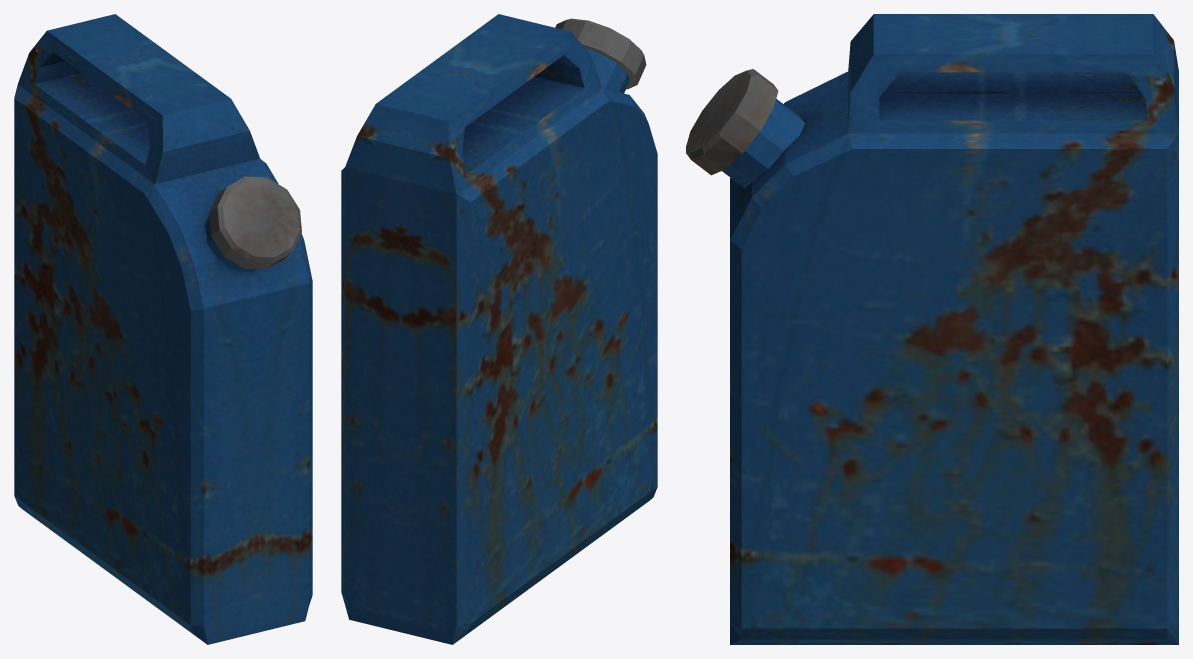
File: Gasoline_can.obj
3 renders of one model, left to right at view 1: azimuth 30°, elevation 25°; view 2: azimuth 150°, elevation 25°; view 3: azimuth 270°, elevation 25°, orthographic. The views are drawn at different scales.
Parts seen in each view (by area): view 1: Cube; view 2: Cube; view 3: Cube.
Boxes of the visible parts, x1,y1,x2,y2 form: Cube: [14, 14, 312, 644]; Cube: [341, 14, 657, 644]; Cube: [686, 14, 1178, 644].
Size of the model in its own units: 0.72 by 2.72 by 2.09.
1 material, 1 textured.
